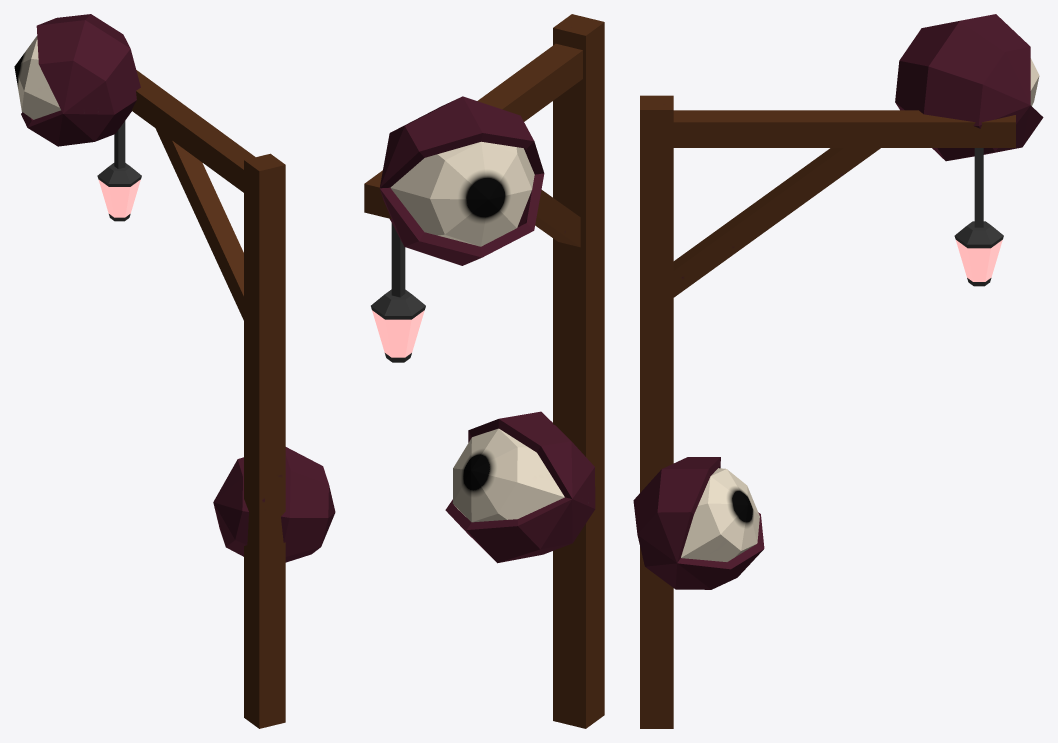
Rendered from Pole_Eye.fbx.
3 renders of one model, left to right at view 1: azimuth 30°, elevation 25°; view 2: azimuth 150°, elevation 25°; view 3: azimuth 270°, elevation 25°, orthographic. The views are drawn at different scales.
Parts seen in each view (by area): view 1: Pole._Eye; view 2: Pole._Eye; view 3: Pole._Eye.
Boxes of the visible parts, x1,y1,x2,y2 form: Pole._Eye: [14, 14, 335, 728]; Pole._Eye: [364, 14, 604, 728]; Pole._Eye: [633, 14, 1043, 728].
Bounding box in the file's own units: 0.8299 × 2.67 × 1.47.
